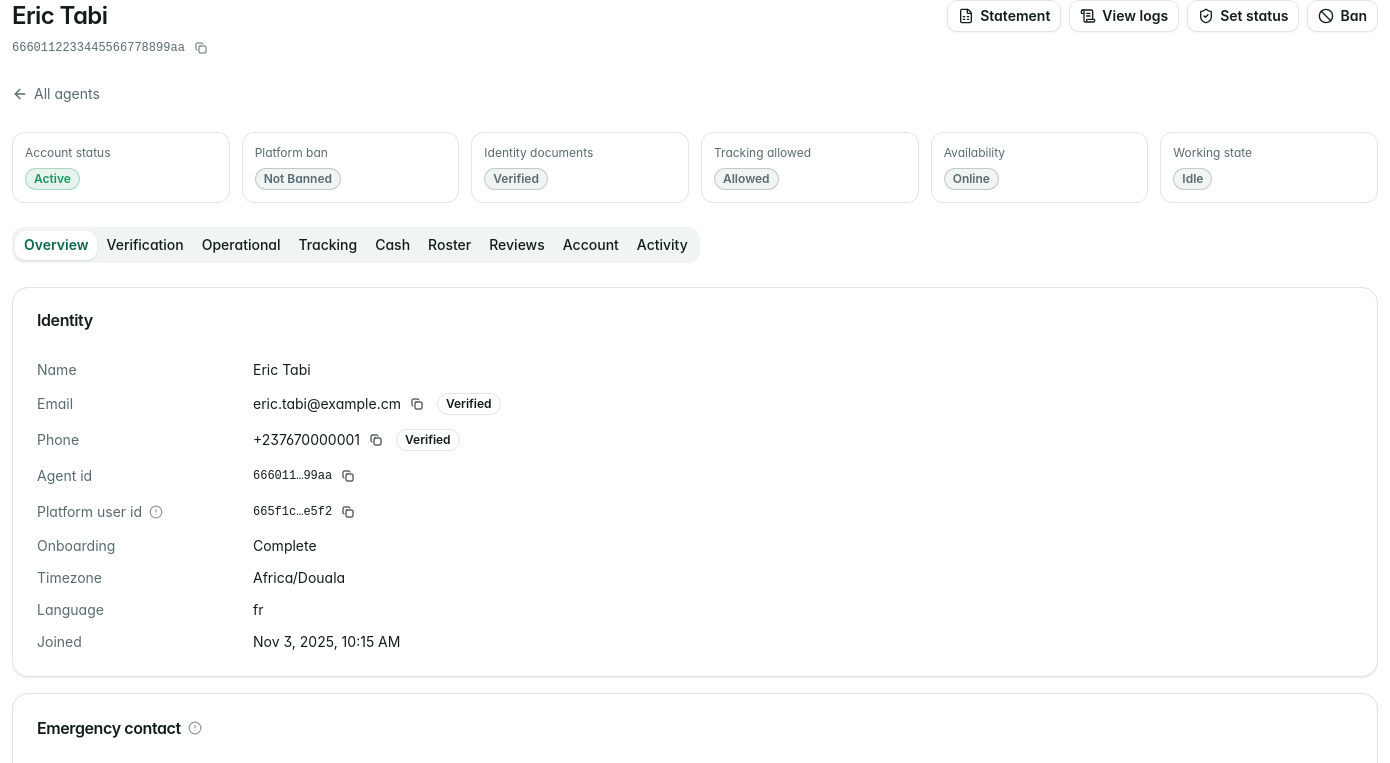
the tracking verdict › renders a dependency failure as unavailable, not as a refusal
Click the tab "Tracking" at (328, 245), box 290,230 -> 366,260
(page scrolled)
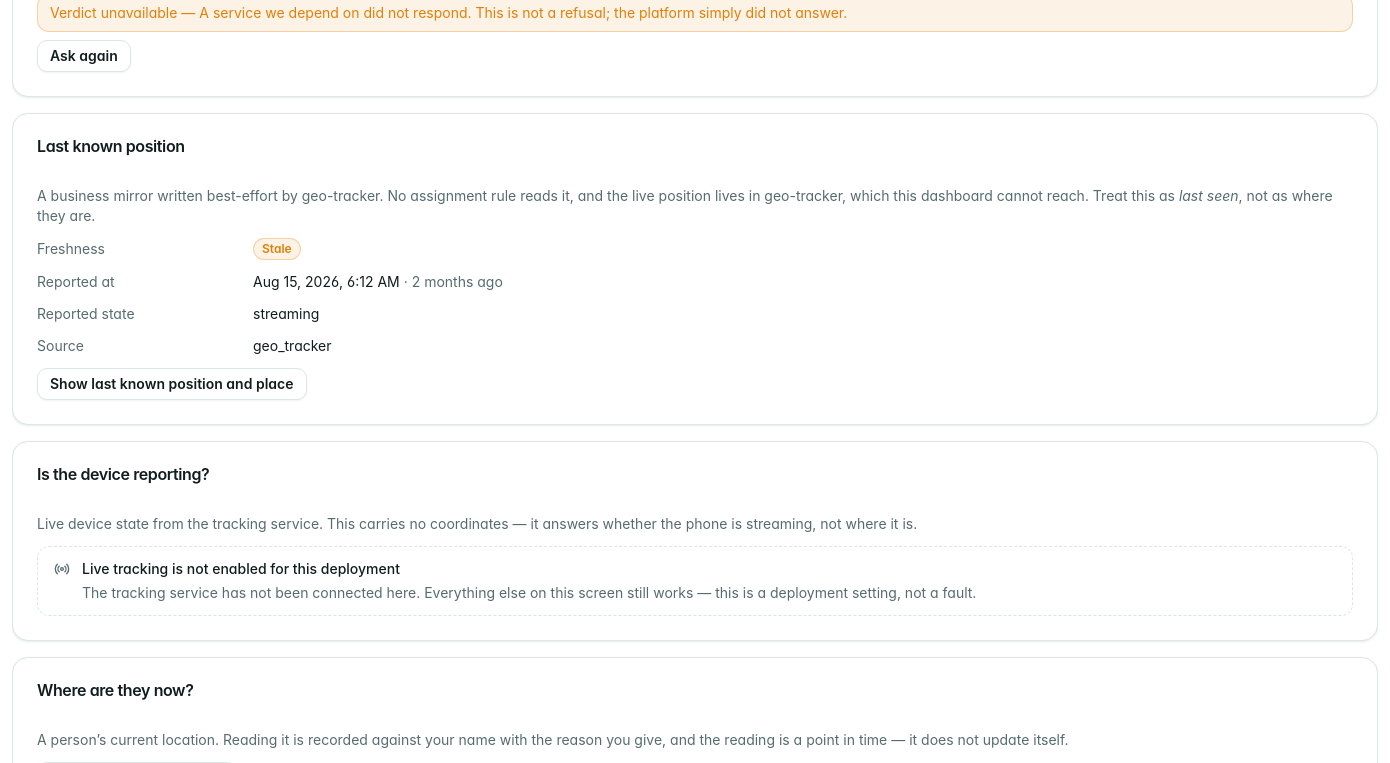
Expected: the text "Verdict unavailable" is shown, 50,4 -> 199,21
Expected: the text "this is not a refusal" is shown, 468,4 -> 847,21
Expected: the button "Show last known position and place" is shown, 37,368 -> 306,400
